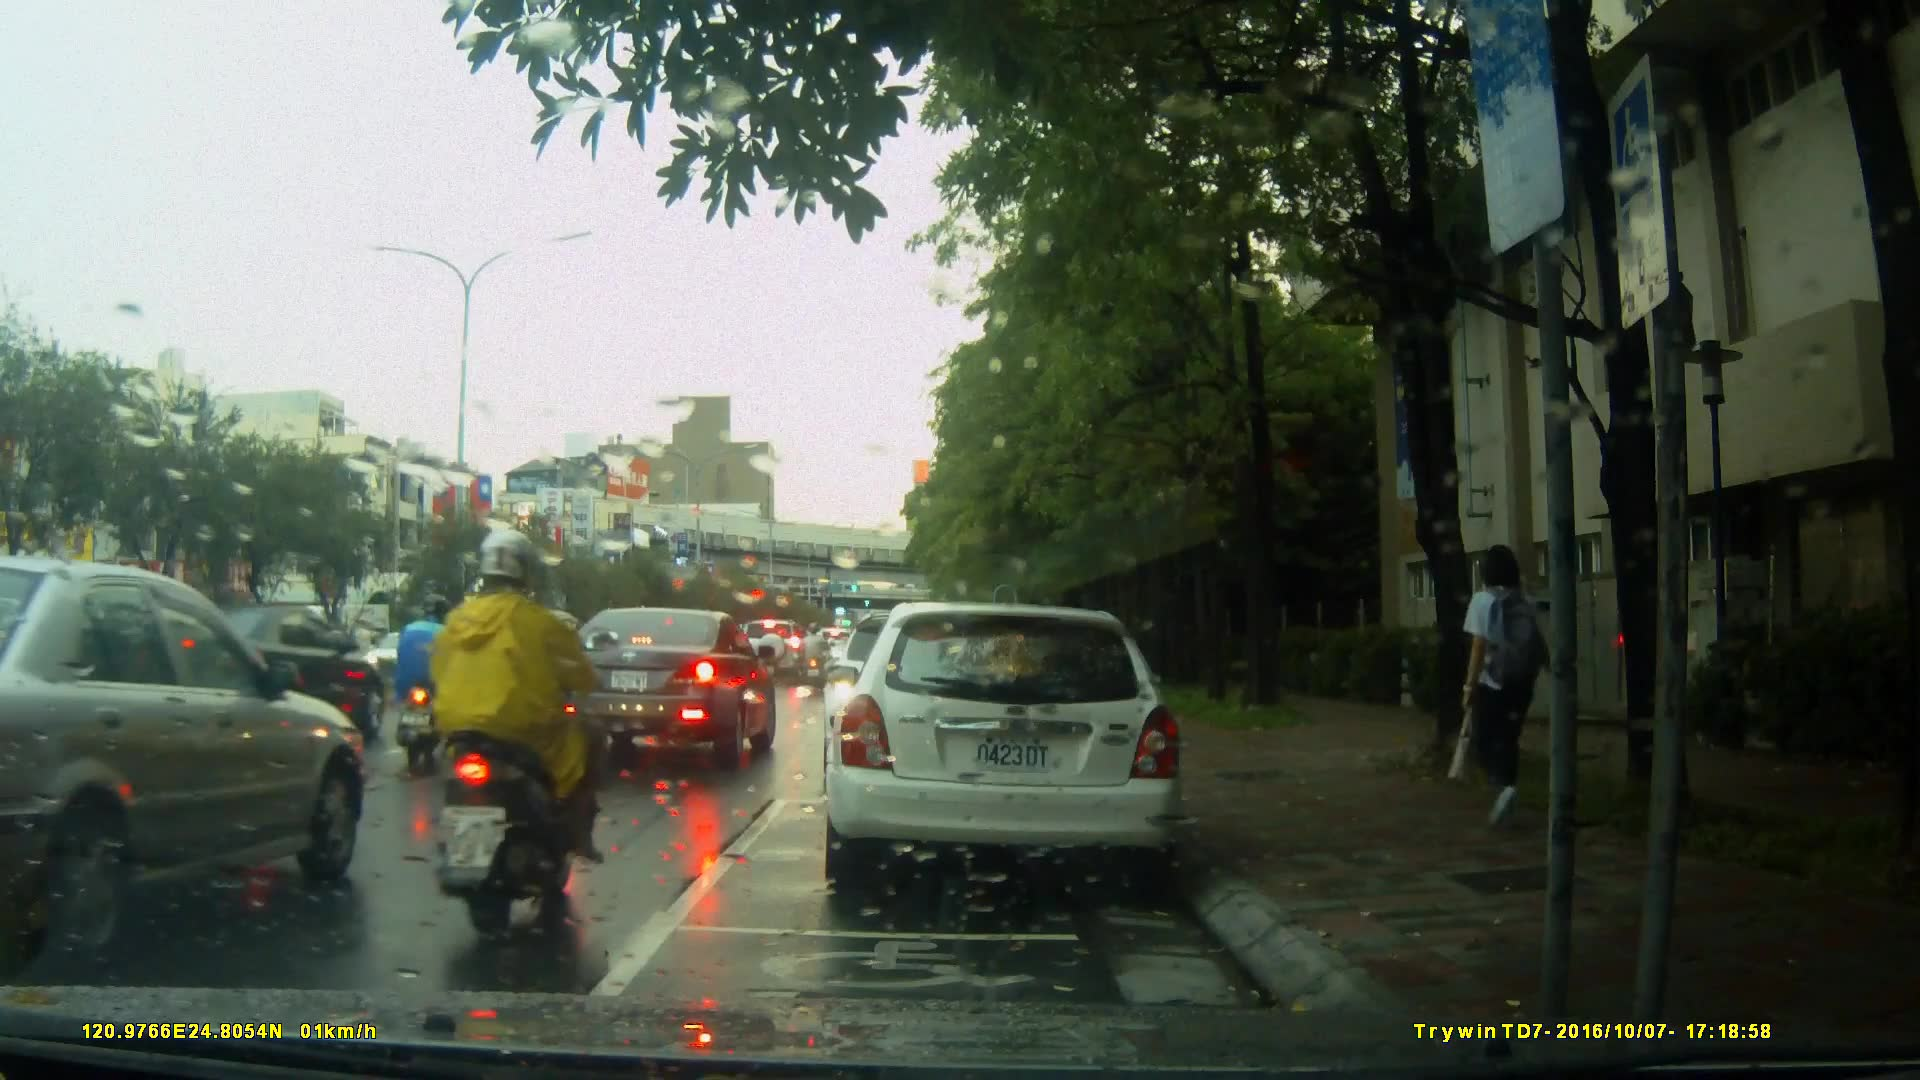pedestrian: (1438, 532, 1563, 841)
rider: (411, 526, 619, 937), (397, 598, 462, 764), (799, 617, 829, 699)
vehicle: (1, 559, 363, 972), (820, 602, 1188, 898), (120, 606, 388, 756), (542, 606, 778, 773), (731, 619, 815, 689)
